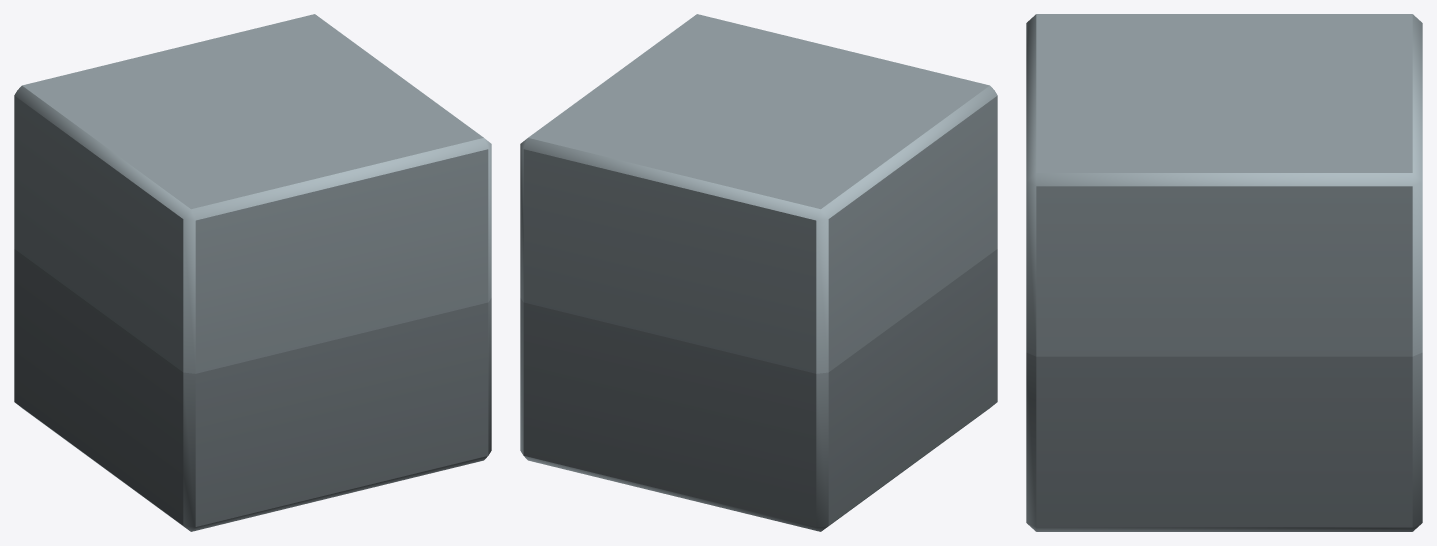
The model's file is Primitive_Cube_Small.fbx.
3 views of the same model, side by side, from view 1: azimuth 30°, elevation 25°; view 2: azimuth 150°, elevation 25°; view 3: azimuth 270°, elevation 25° (orthographic). The views are drawn at different scales.
Parts seen in each view (by area): view 1: Primitive_Cube_Small; view 2: Primitive_Cube_Small; view 3: Primitive_Cube_Small.
Part boxes in pixels (left/top/right/bottom): Primitive_Cube_Small: left=14, top=14, right=491, bottom=531; Primitive_Cube_Small: left=520, top=14, right=997, bottom=531; Primitive_Cube_Small: left=1026, top=14, right=1422, bottom=531.
Size of the model in its own units: 2 by 2 by 2.
